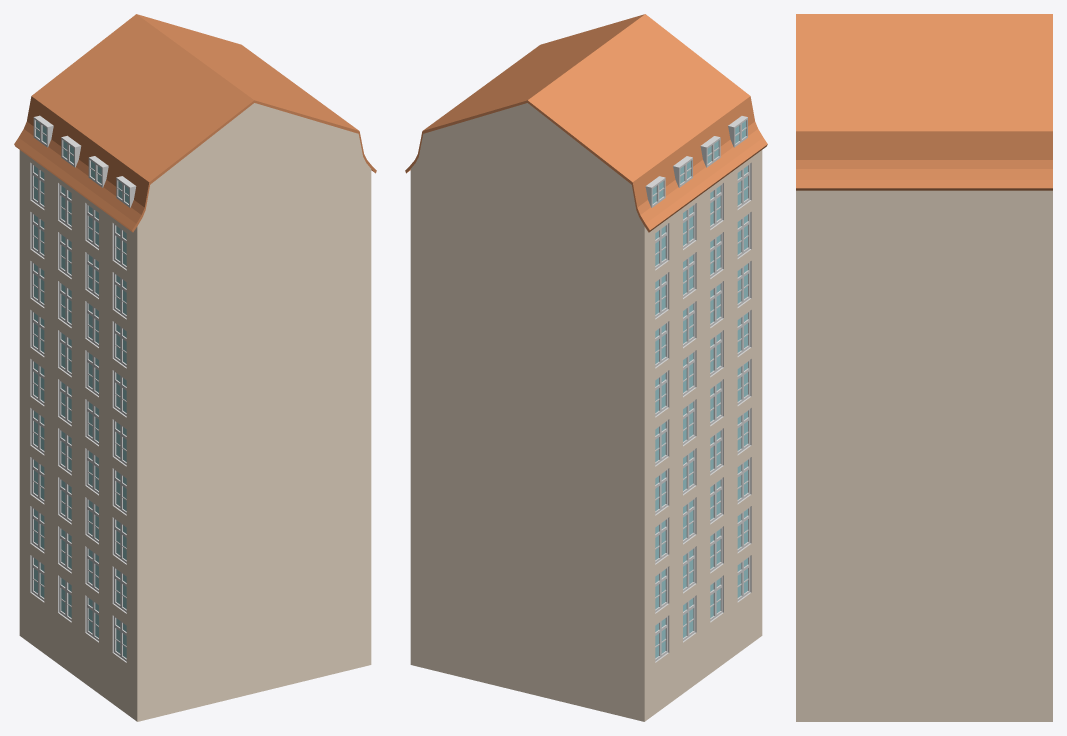
The model's file is Building_14.fbx.
3 renders of one model, left to right at view 1: azimuth 30°, elevation 25°; view 2: azimuth 150°, elevation 25°; view 3: azimuth 270°, elevation 25°, orthographic. The views are drawn at different scales.
Visible parts, largest first — view 1: Building_14; view 2: Building_14; view 3: Building_14.
Part boxes in pixels (box(x1,y1,x2,y2)): Building_14: box(14, 14, 376, 721); Building_14: box(405, 14, 767, 721); Building_14: box(796, 14, 1052, 721).
Bounding box in the file's own units: 1337 × 3094 × 1115.
